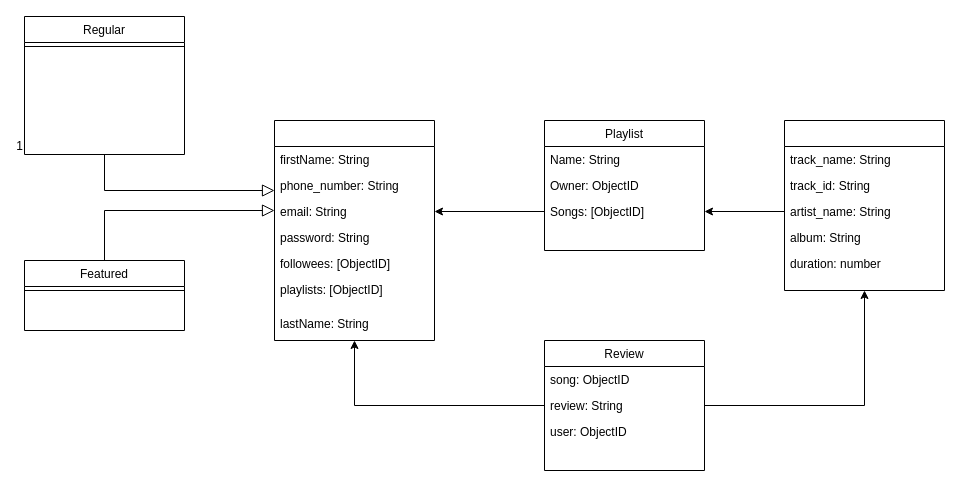
Image size: 961x487. Some labels were removed from this diagram. Each missing label, with the box of its shape:
Song: (784, 120, 944, 290)
User: (274, 120, 434, 340)
